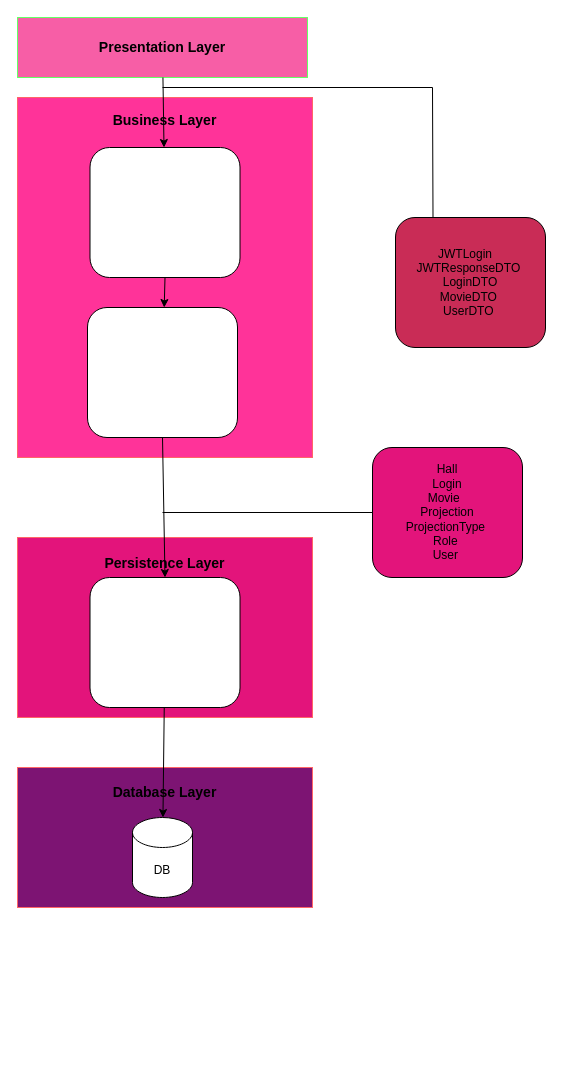
This 563x1077 diagram has some shape labels left out. Each missing label, with the centre of its shape:
"CustomUserDetailService MovieService UserService" belongs at pixel 162 372.
"LoginController MovieController UserController" belongs at pixel 164 212.
"UserRepository MovieRepository" belongs at pixel 164 642.
